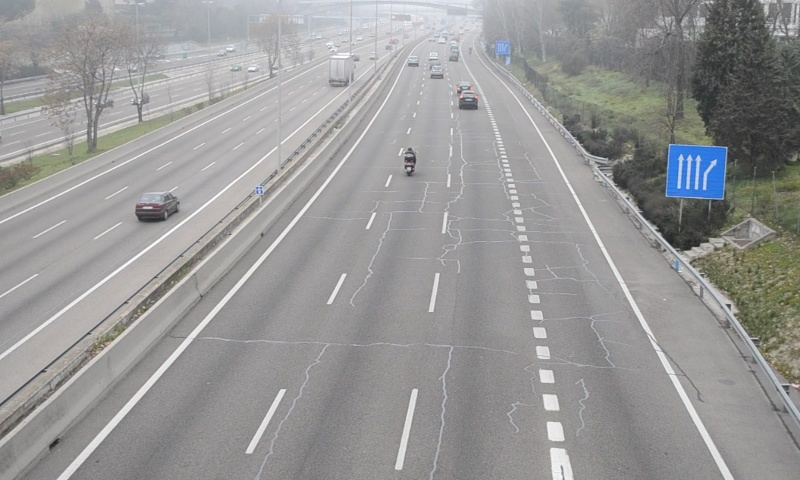car: (459, 90, 479, 111)
motorcycle: (402, 146, 416, 172)
